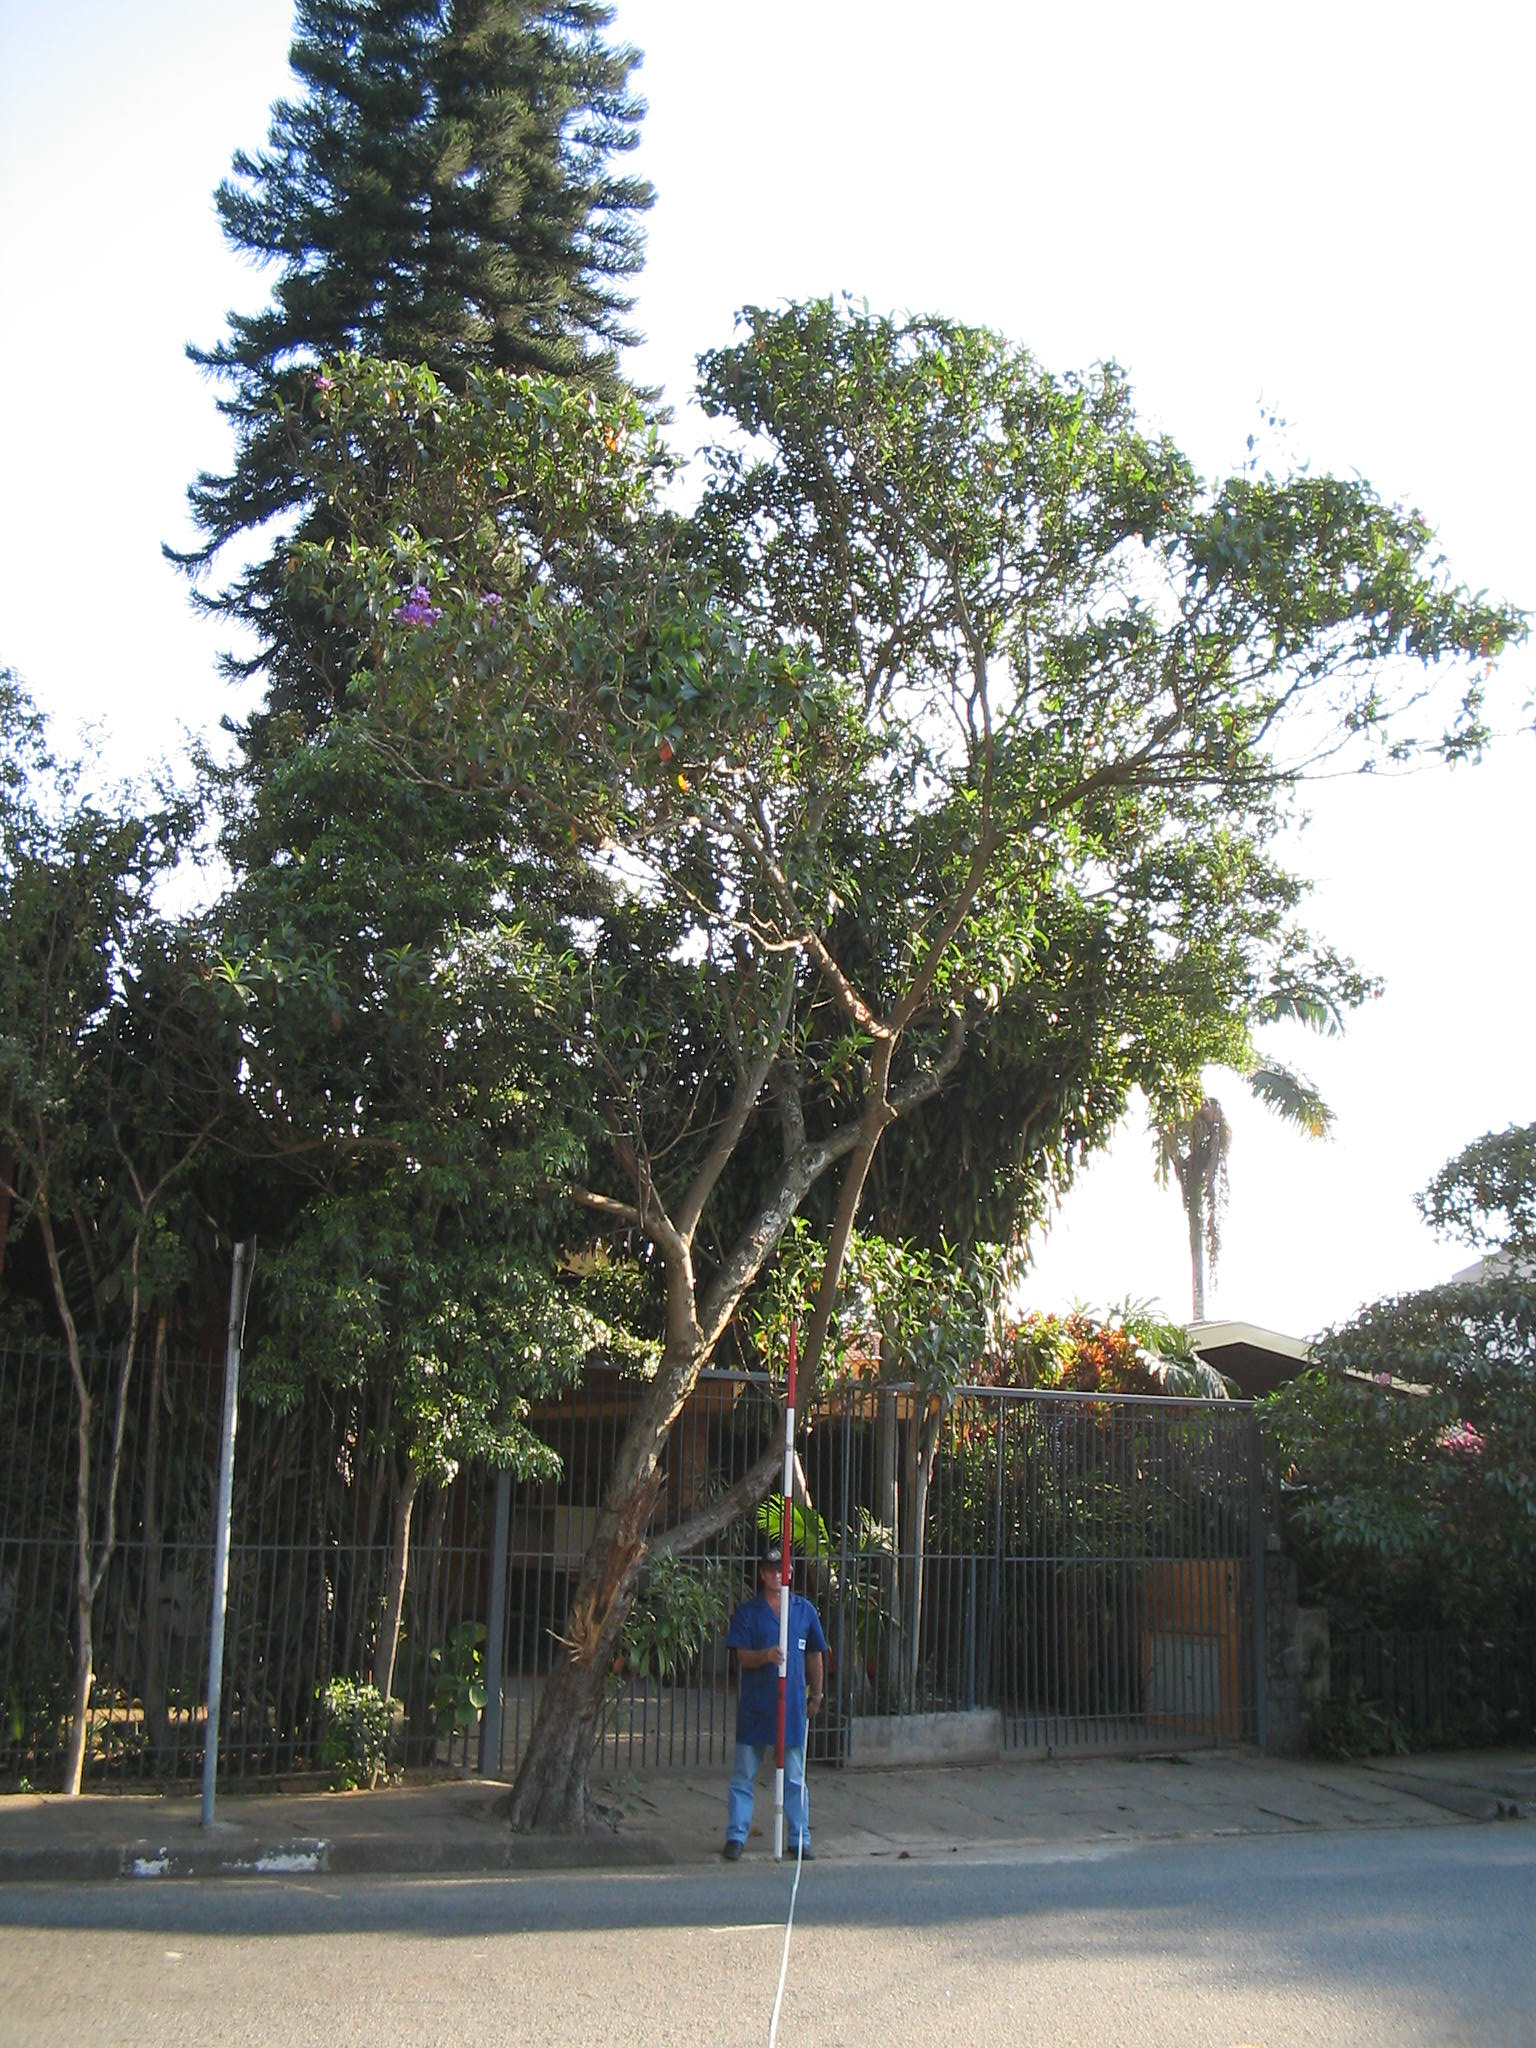crown: (303, 300, 1536, 1474)
stem: (466, 1526, 699, 1825)
stick: (762, 1321, 812, 1863)
tree: (298, 297, 1536, 1834)
